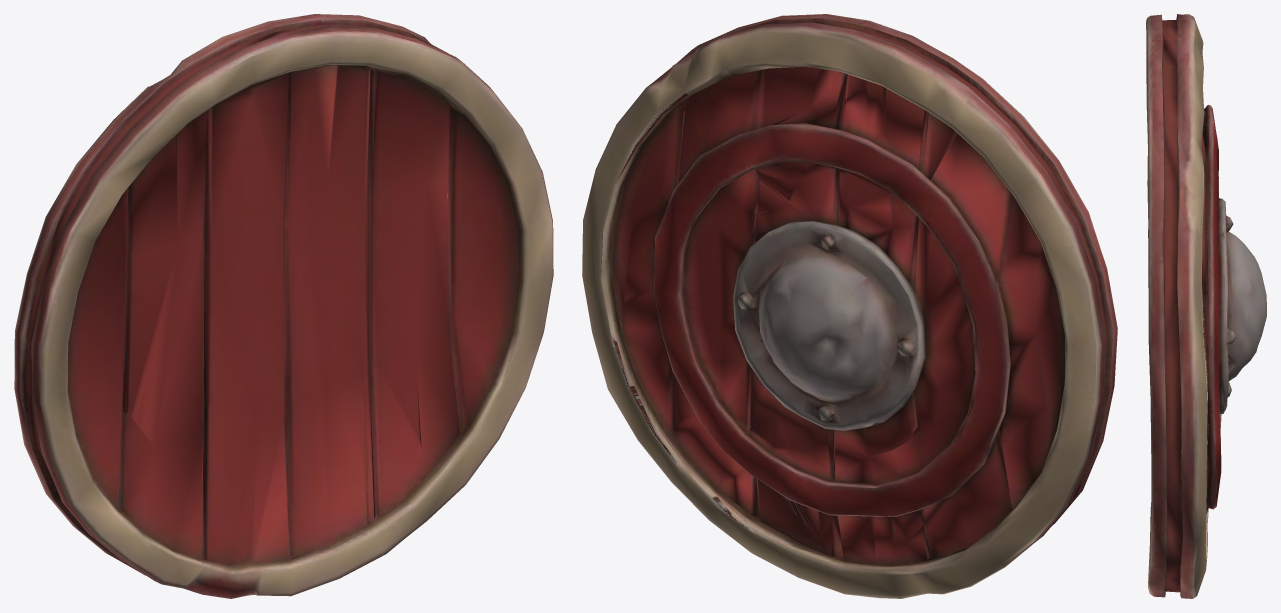
The model's file is shield.glb.
3 views of the same model, side by side, from view 1: azimuth 30°, elevation 25°; view 2: azimuth 150°, elevation 25°; view 3: azimuth 270°, elevation 25° (orthographic). The views are drawn at different scales.
Parts seen in each view (by area): view 1: weapon; view 2: weapon; view 3: weapon.
Part boxes in pixels (x1,y1,x2,y2): weapon: (14, 14, 553, 598); weapon: (582, 14, 1117, 598); weapon: (1146, 14, 1266, 598).
Bounding box in the file's own units: 0.9705 × 1 × 0.2052.
Materials: 1 (1 with a texture image).
